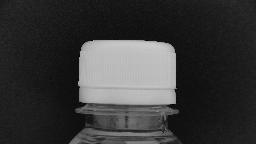Good Cap: (65, 35, 185, 119)
